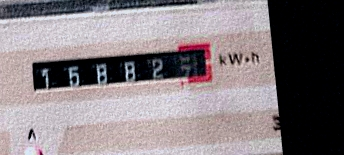1: (38, 65, 55, 89)
2: (149, 56, 167, 82)
5: (66, 63, 83, 89)
7: (180, 61, 193, 79)
8: (122, 59, 139, 84), (94, 62, 110, 86)
screen: (22, 35, 224, 109)
